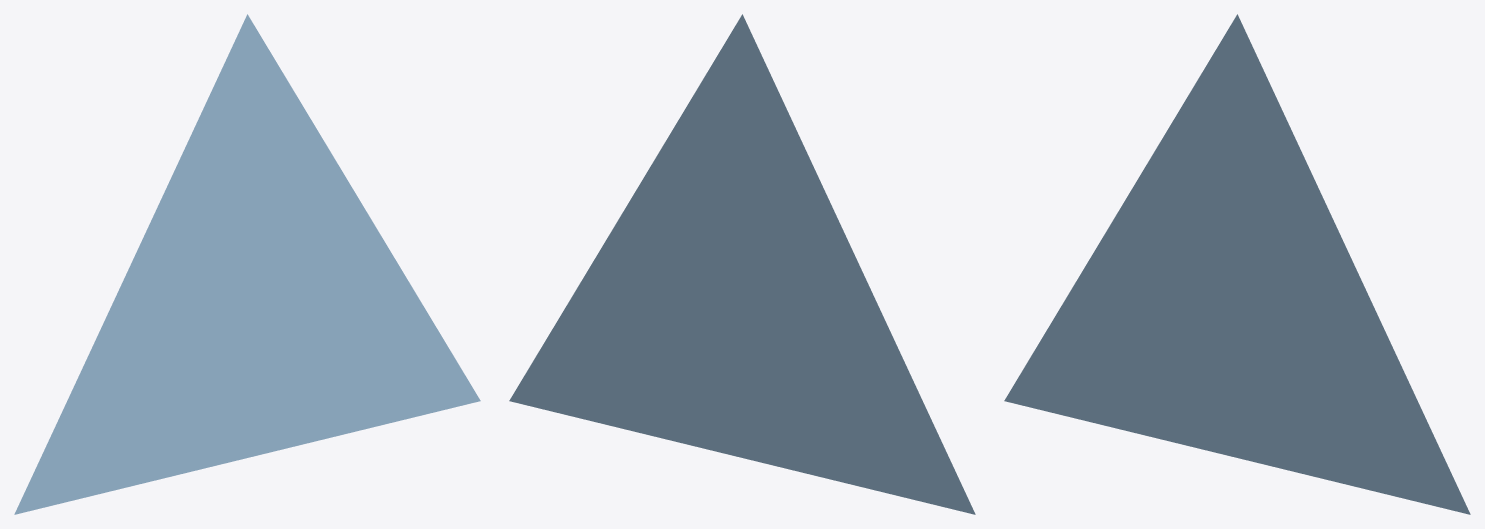
File: experience_probe.gltf
3 views of the same model, side by side, from view 1: azimuth 30°, elevation 25°; view 2: azimuth 150°, elevation 25°; view 3: azimuth 330°, elevation 25° (orthographic).
Parts seen in each view (by area): view 1: experience_probe_triangle; view 2: experience_probe_triangle; view 3: experience_probe_triangle.
Part boxes in pixels (bbox=[...]): experience_probe_triangle: bbox=[14, 14, 480, 514]; experience_probe_triangle: bbox=[509, 14, 975, 514]; experience_probe_triangle: bbox=[1004, 14, 1470, 514].
Size of the model in its own units: 1.1 by 1 by 0.
